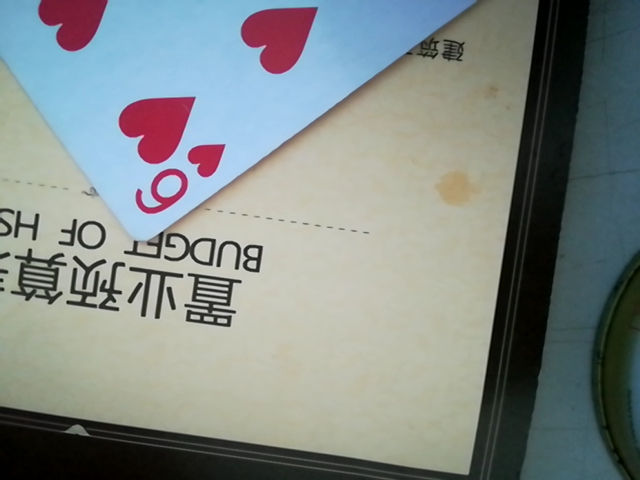hx 6: (1, 2, 503, 238)
